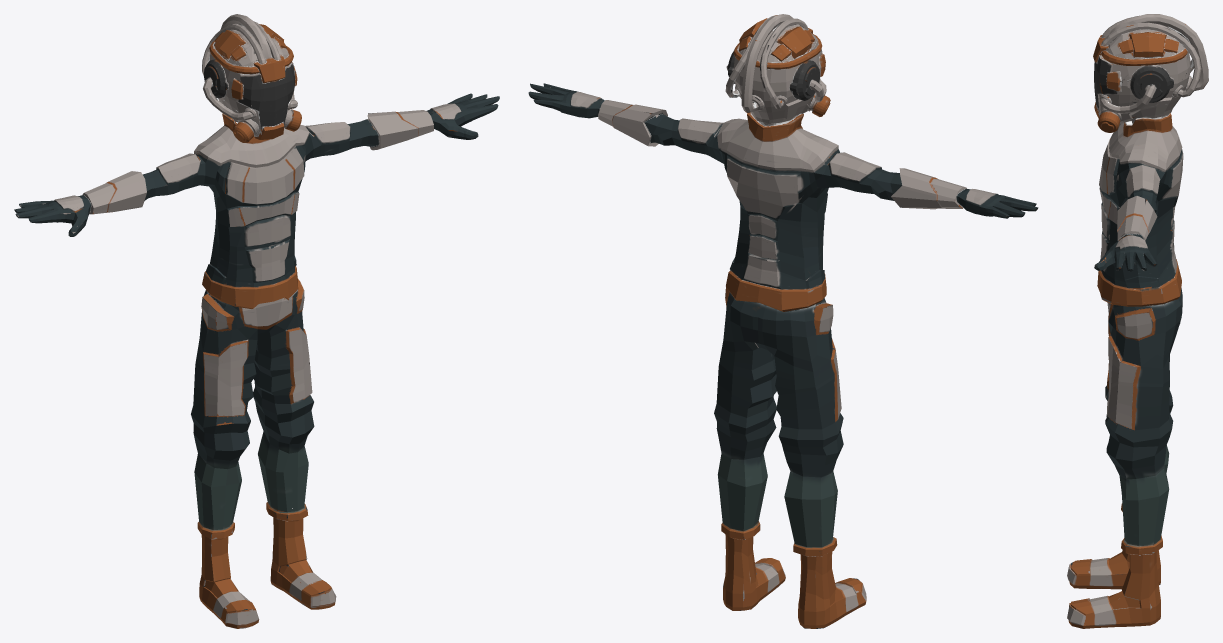
Rendered from Fit_astronaut_color.obj.
The picture shows the model from 3 angles, left to right: view 1: azimuth 30°, elevation 25°; view 2: azimuth 150°, elevation 25°; view 3: azimuth 270°, elevation 25°; orthographic projection. The views are drawn at different scales.
Parts seen in each view (by area): view 1: SpaceSuit_Legs.001; view 2: SpaceSuit_Legs.001; view 3: SpaceSuit_Legs.001.
Boxes of the visible parts, box(x1,y1,x2,y2) form: SpaceSuit_Legs.001: box(14, 14, 499, 628); SpaceSuit_Legs.001: box(528, 14, 1038, 628); SpaceSuit_Legs.001: box(1067, 14, 1208, 628).
Bounding box in the file's own units: 1.68 × 1.89 × 0.4128.
1 material, 1 textured.
